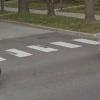Crosswalk: (6, 33, 98, 59)
